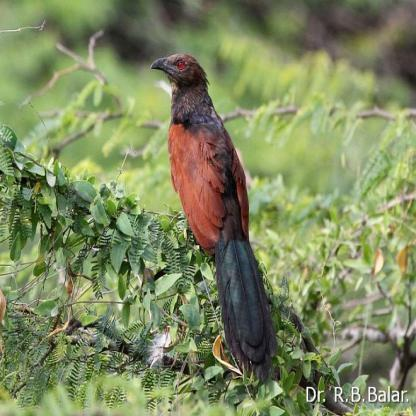Burung: (149, 53, 278, 382)
